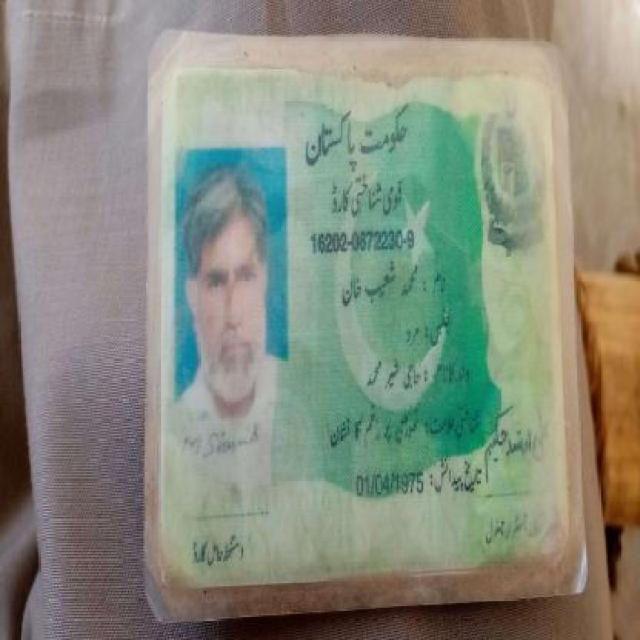Front: (157, 57, 580, 589)
